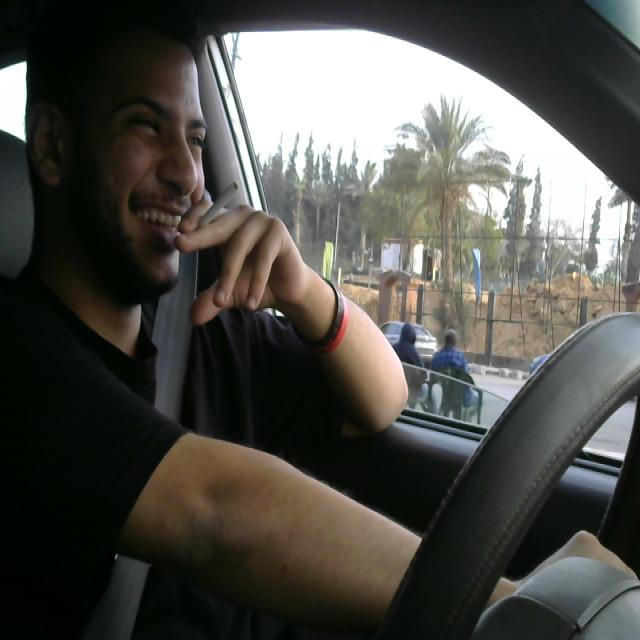smoking: (182, 176, 246, 249)
